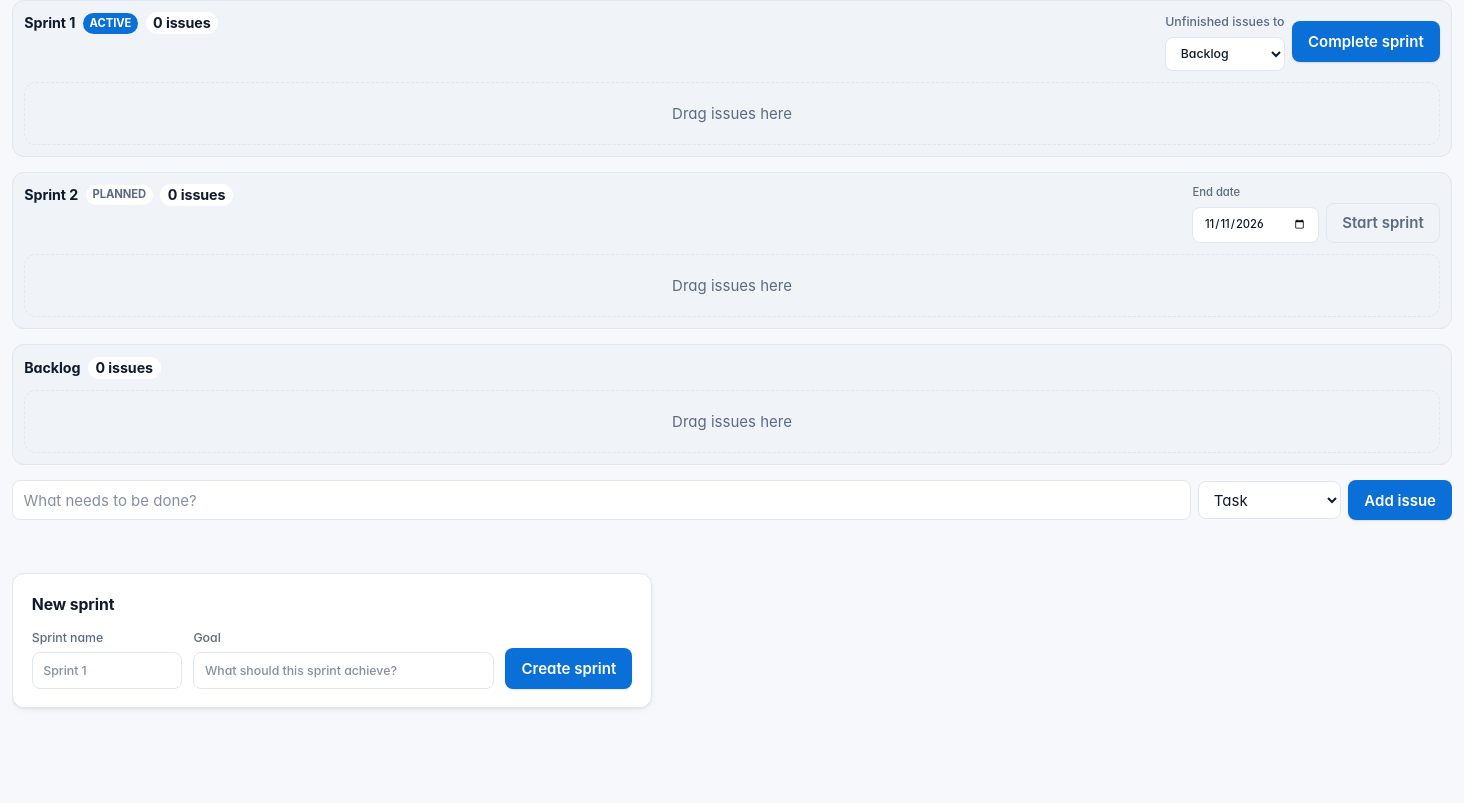
Scenario: Backlog (KYB-S20) › AC2: creates and starts a sprint; start is disabled while another is active
Expected: the button "Start sprint" is disabled, [1326, 203, 1440, 243]
Type "Sprint 3" into the field labelled "Sprint name" at point(107, 670), box [32, 652, 182, 688]
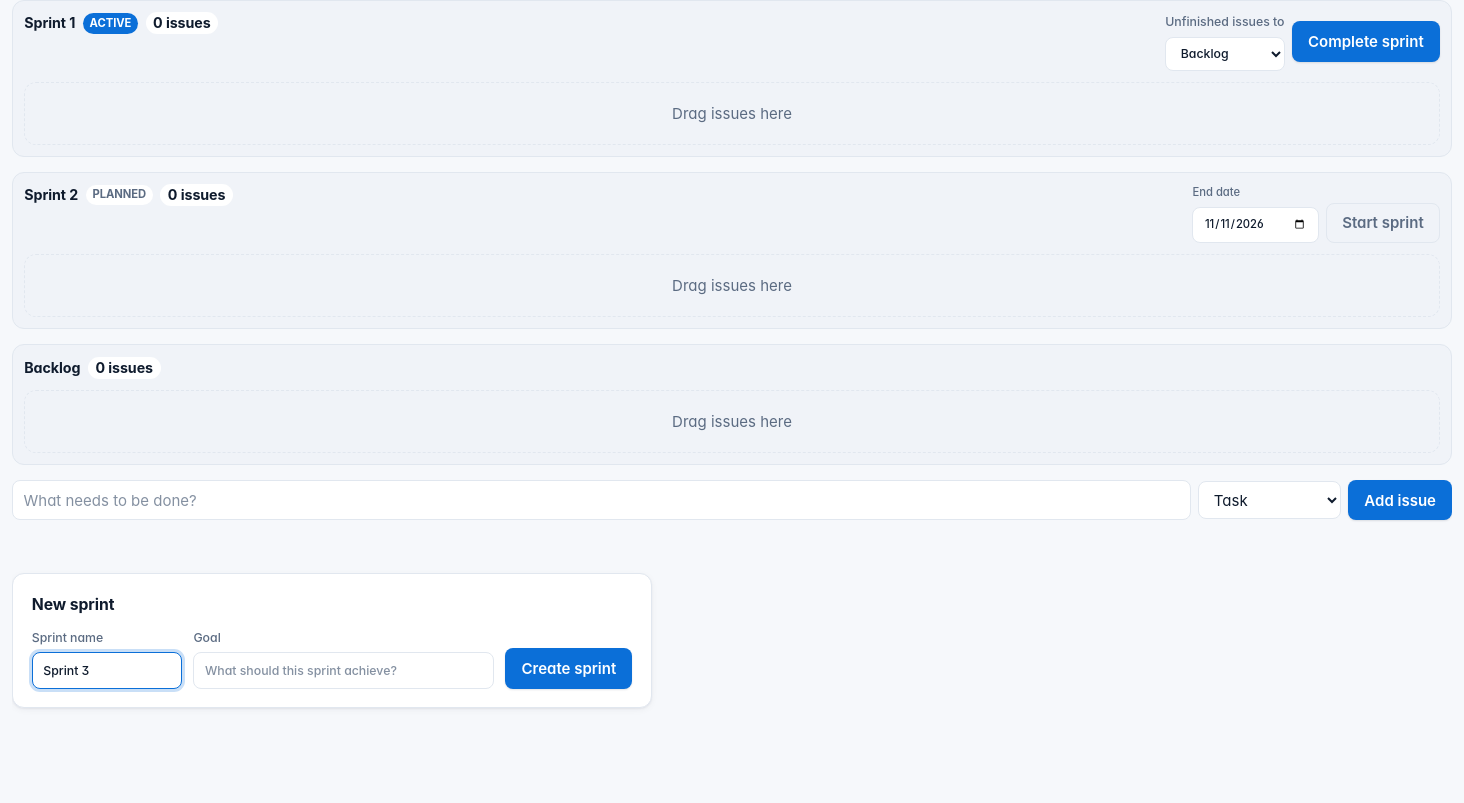
Click the button "Create sprint" at point(569, 668), box [506, 648, 632, 689]
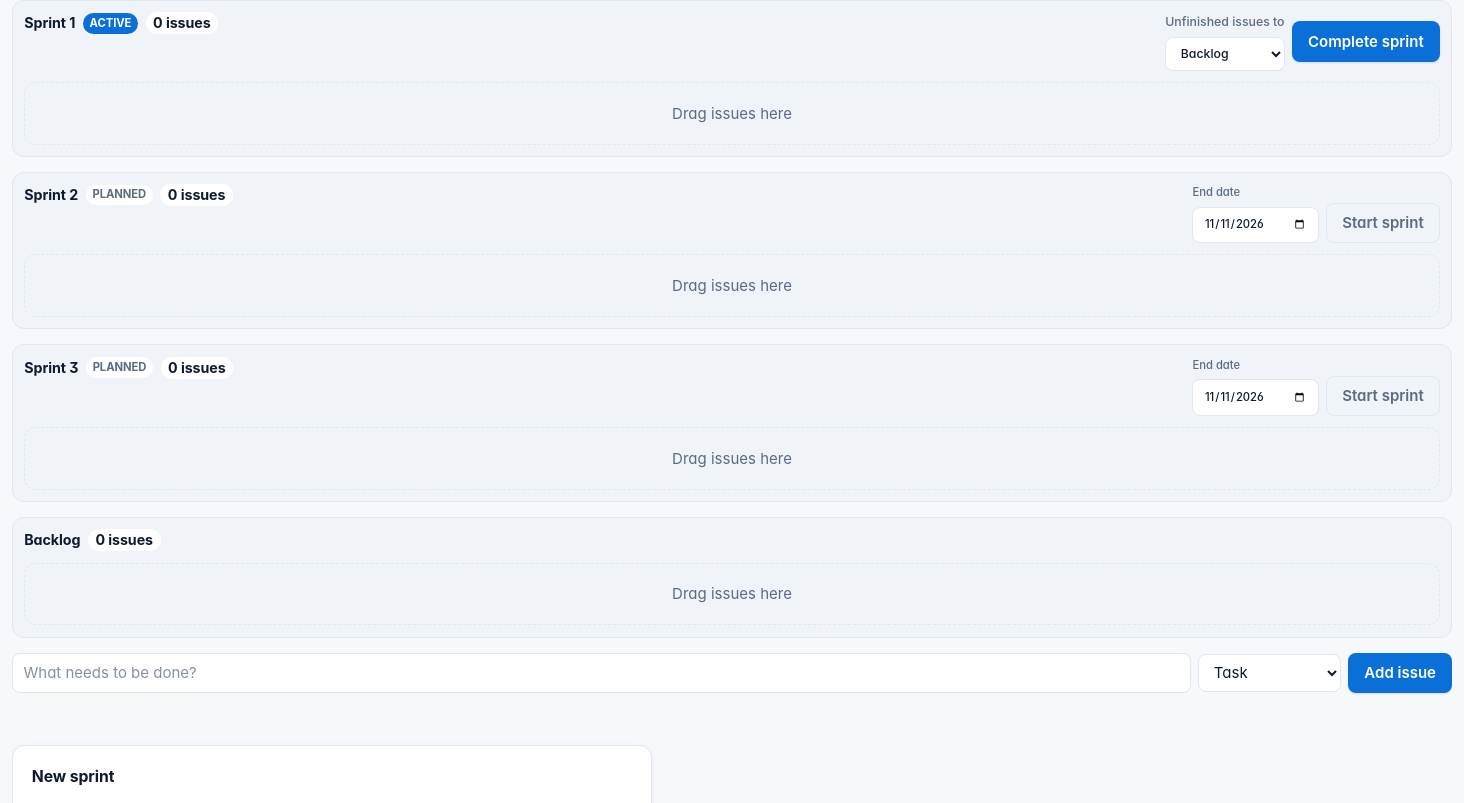
Expected: the element "Sprint 3" is shown, [12, 344, 1452, 502]
